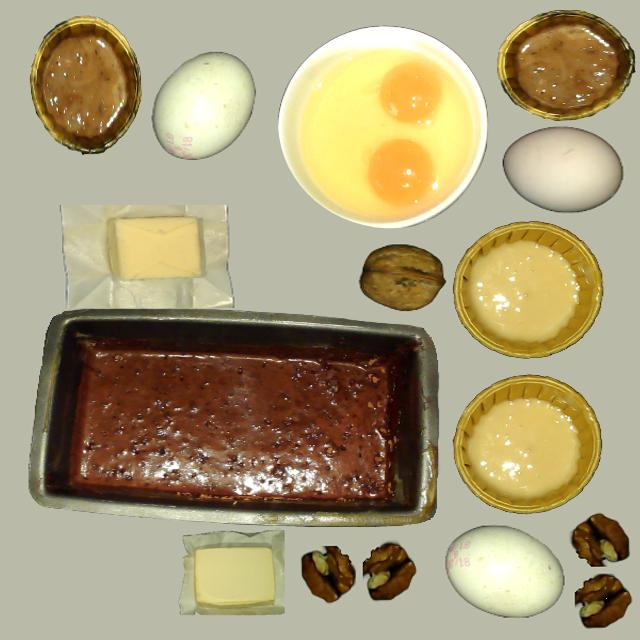Egg: (304, 140, 444, 214), (379, 62, 443, 125)
Walnut: (360, 244, 444, 312)
